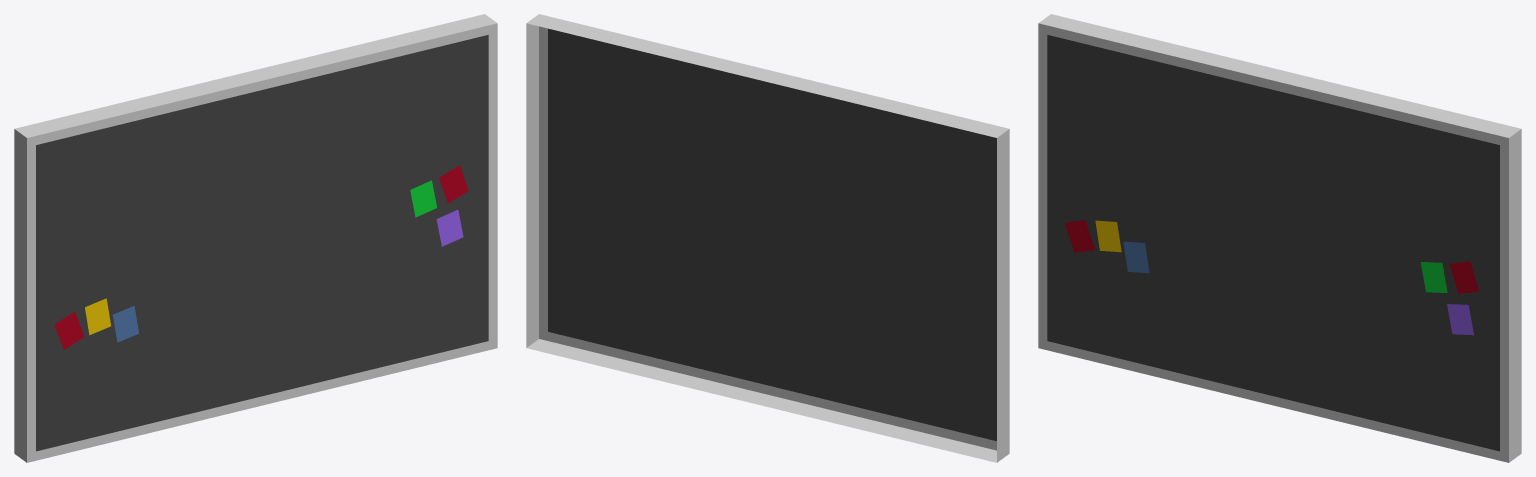
File: Board.fbx
3 views of the same model, side by side, from view 1: azimuth 30°, elevation 25°; view 2: azimuth 150°, elevation 25°; view 3: azimuth 330°, elevation 25° (orthographic).
Visible parts, largest first — view 1: Board; view 2: Board; view 3: Board.
Boxes of the visible parts, <box> form: Board: <box>14,14,497,462</box>; Board: <box>526,14,1009,462</box>; Board: <box>1038,14,1521,462</box>.
Bounding box in the file's own units: 242 × 160 × 11.68.
